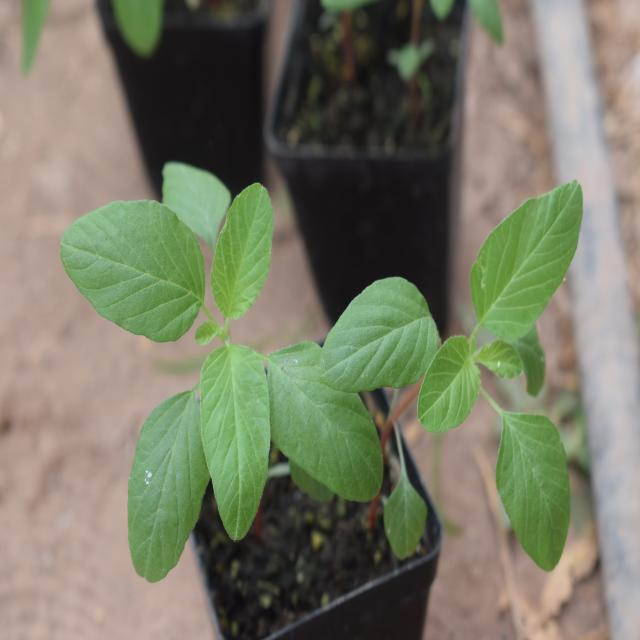pigweed: (50, 208, 358, 557), (347, 179, 605, 561)
